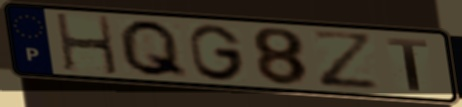8: (250, 25, 313, 88)
G: (186, 22, 249, 82)
H: (52, 12, 122, 77)
Q: (116, 17, 192, 80)
T: (385, 36, 431, 93)
Z: (308, 28, 384, 91)
